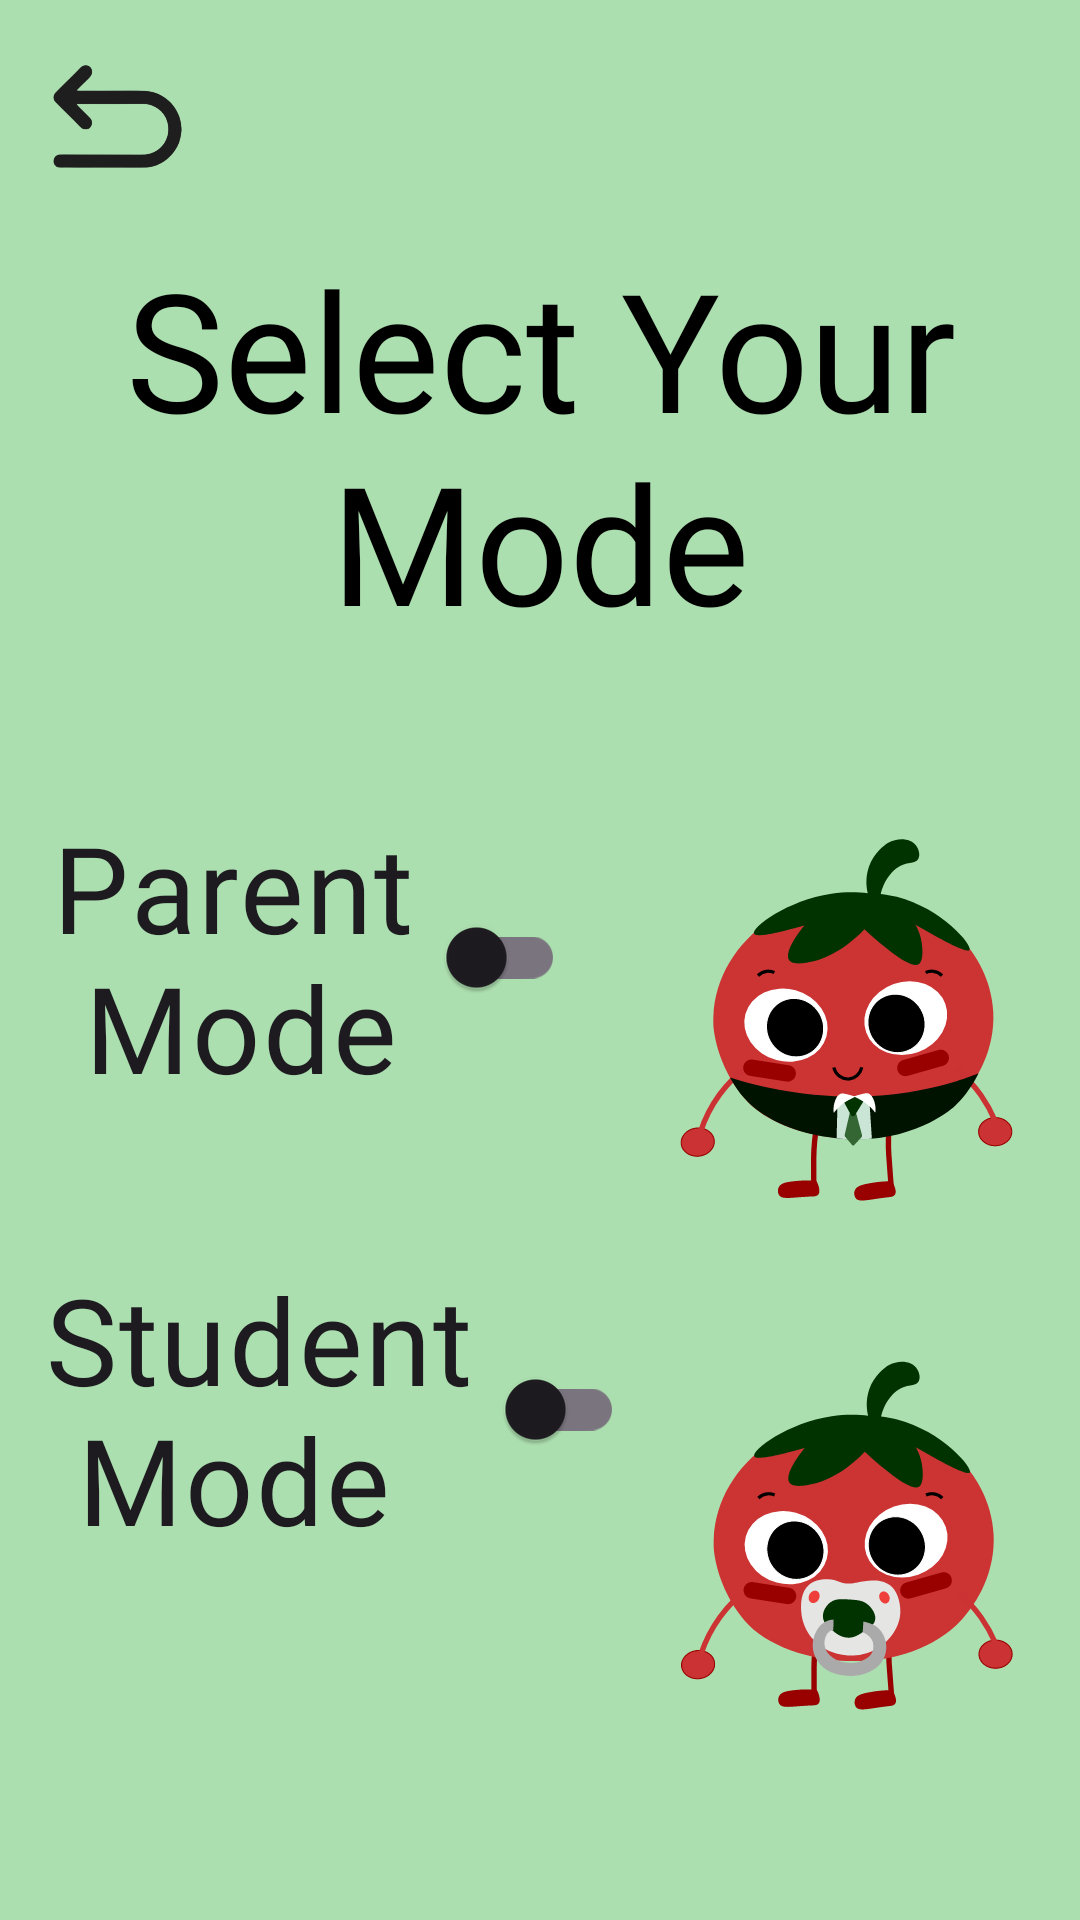

Where icons sit on this 1080x1920 app screen, as bbox(x1, y1, x2, y2):
Baby Tom: bbox(681, 1361, 1013, 1710)
back: bbox(53, 65, 182, 168)
